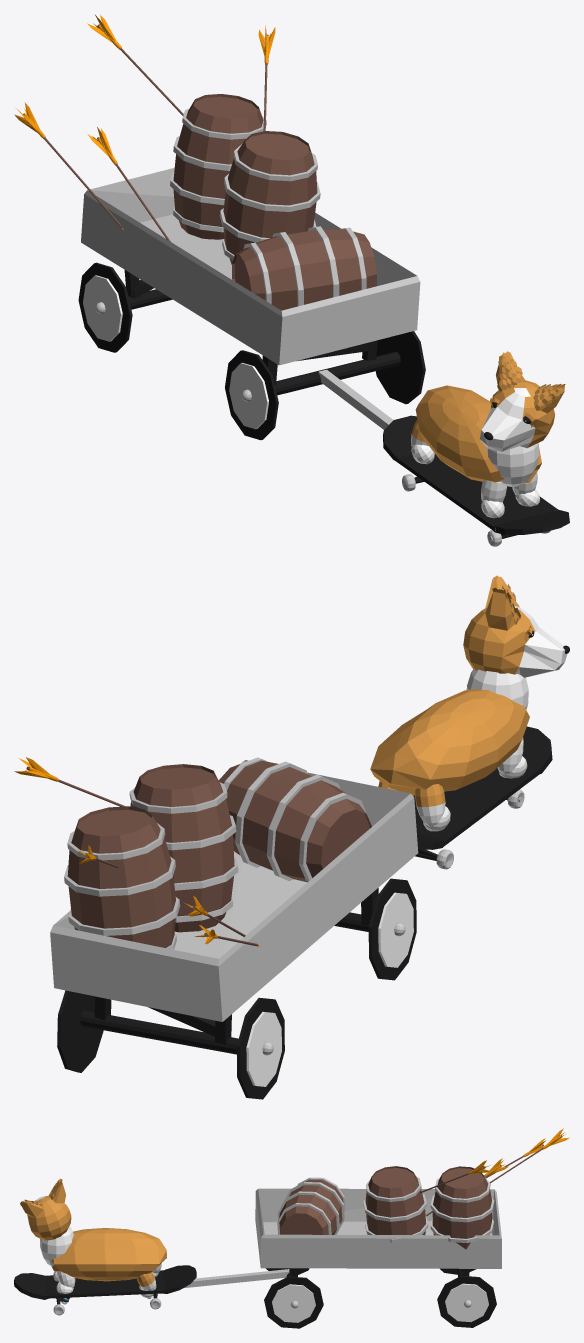
The model's file is corgi.obj.
3 renders of one model, top to bottom at view 1: azimuth 30°, elevation 25°; view 2: azimuth 150°, elevation 25°; view 3: azimuth 270°, elevation 25°, orthographic. The views are drawn at different scales.
Parts seen in each view (by area): view 1: group1300291018, group1062008684, group1465813965, group615928844, group1928460050, group782209738, group1723528893, group1597278407, group1526285630, group1537467268, group1625539702, group1168893477 (+2 smaller); view 2: group1300291018, group1062008684, group615928844, group1465813965, group1928460050, group1168893477, group1240037778, group1484479832, group1597278407, group1723528893, group1526285630, group1537467268 (+4 smaller); view 3: group1062008684, group1300291018, group1465813965, group615928844, group1928460050, group2134098760, group636306842, group1240037778, group782209738, group1168893477, group1574960924, group617107764 (+2 smaller).
Boxes of the visible parts, box(x1,y1,x2,y2) form: group1300291018: box(81, 168, 420, 365); group1062008684: box(383, 351, 569, 546); group1465813965: box(219, 131, 320, 264); group615928844: box(232, 226, 376, 310); group1928460050: box(177, 94, 263, 164); group782209738: box(375, 331, 425, 404); group1723528893: box(83, 275, 122, 341); group1597278407: box(229, 362, 268, 429); group1526285630: box(225, 350, 278, 440); group1537467268: box(78, 262, 132, 352); group1625539702: box(275, 351, 400, 395); group1168893477: box(173, 154, 229, 198); group1300291018: box(50, 760, 418, 1021); group1062008684: box(370, 575, 569, 869); group615928844: box(218, 757, 371, 882); group1465813965: box(129, 764, 238, 932); group1928460050: box(67, 806, 171, 888); group1168893477: box(68, 876, 175, 928); group1240037778: box(57, 990, 103, 1072); group1484479832: box(80, 1010, 238, 1054); group1597278407: box(378, 892, 413, 967); group1723528893: box(246, 1012, 281, 1086); group1526285630: box(368, 878, 416, 980); group1537467268: box(236, 997, 284, 1099); group1062008684: box(14, 1178, 196, 1315); group1300291018: box(255, 1188, 501, 1268); group1465813965: box(363, 1166, 428, 1242); group615928844: box(277, 1177, 345, 1234); group1928460050: box(433, 1166, 491, 1217); group2134098760: box(445, 1283, 488, 1321); group636306842: box(272, 1284, 315, 1322); group1240037778: box(437, 1275, 496, 1327); group782209738: box(264, 1276, 323, 1328); group1168893477: box(432, 1211, 491, 1238); group1574960924: box(183, 1269, 289, 1288); group617107764: box(430, 1195, 494, 1222).
Size of the model in its own units: 0.5691 by 0.6936 by 1.95.
